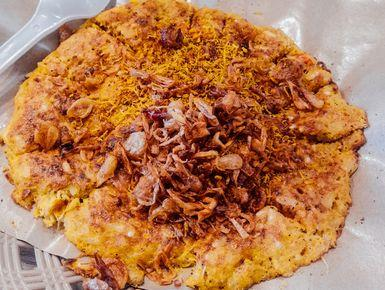kerak_telor: (6, 1, 369, 290)
